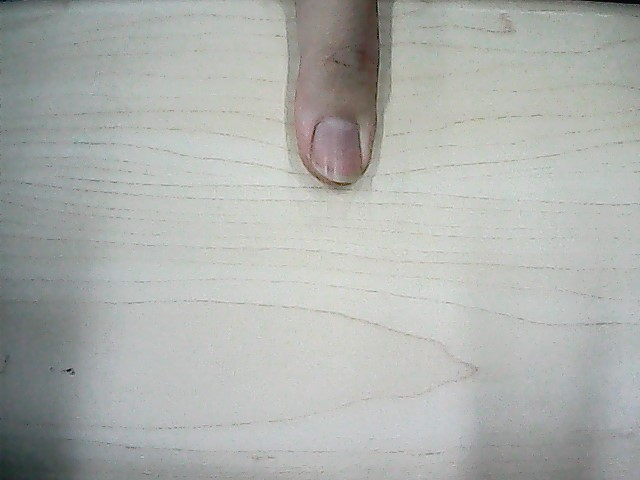nail: (307, 117, 365, 183)
